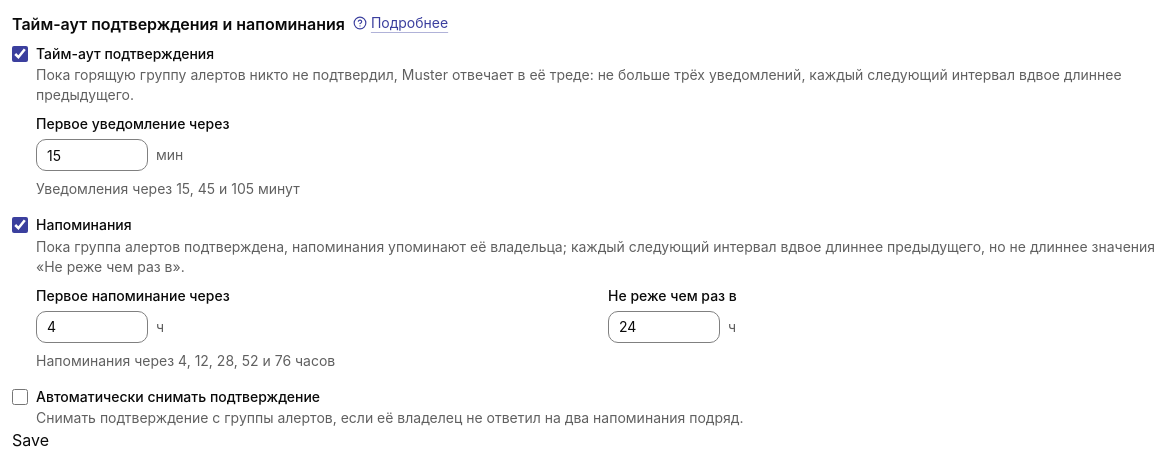
Test: RoutePolicyTimers › speaks Russian, with its plurals
expect the text with test id "ack-timeout-times" reads "Уведомления через 15, 45 и 105 минут": met, box [36, 180, 300, 197]
expect the text with test id "reminder-times" reads "Напоминания через 4, 12, 28, 52 и 76 часов": met, box [36, 352, 335, 368]
Replace the text in the number field labelled "Первое уведомление через" with "3": (92, 155) [36, 139, 148, 171]
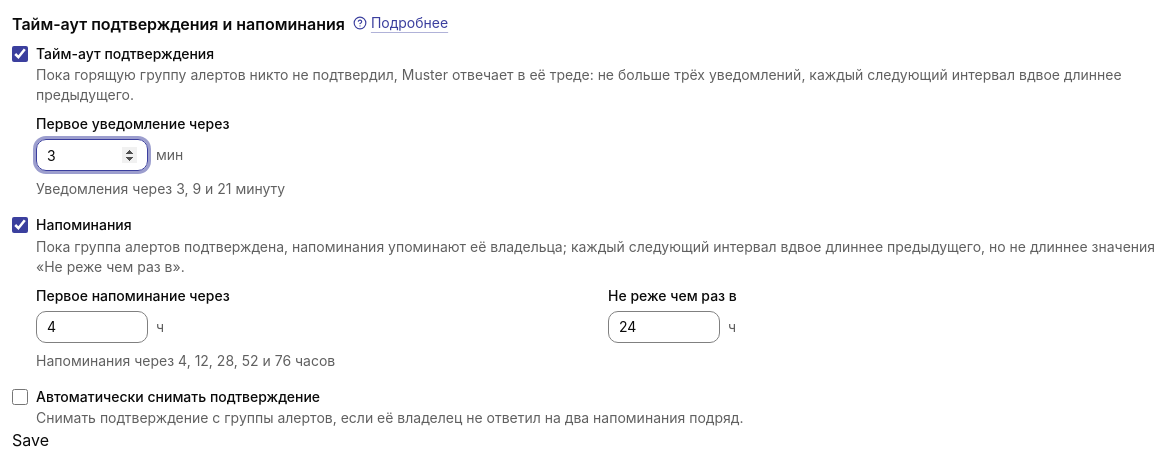
expect the text with test id "ack-timeout-times" reads "Уведомления через 3, 9 и 21 минуту": met, box [36, 180, 285, 197]
Replace the text in the number field labelled "Первое уведомление через" with "0.5": (92, 155) [36, 139, 148, 171]
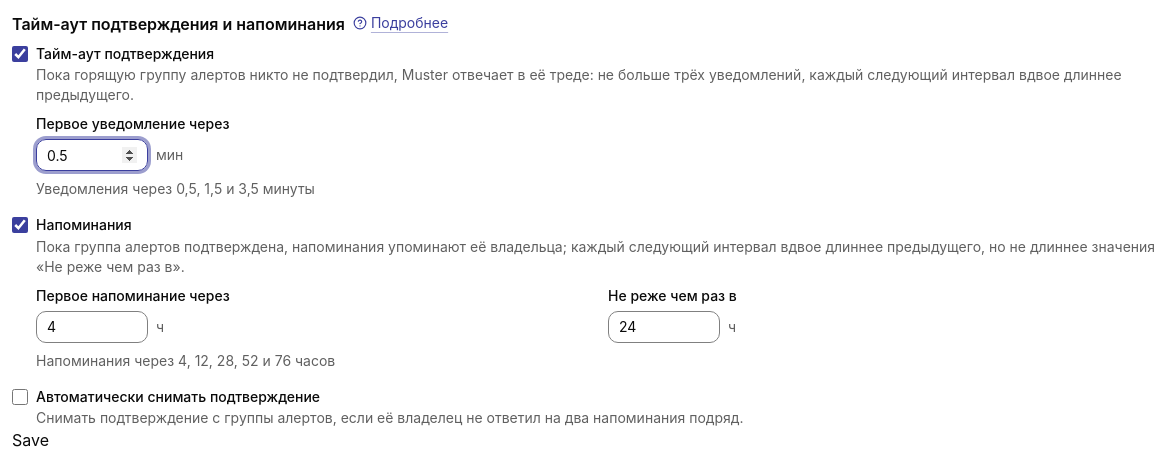
expect the text with test id "ack-timeout-times" reads "Уведомления через 0,5, 1,5 и 3,5 минуты": met, box [36, 180, 315, 197]
Replace the text in the number field labelled "Первое напоминание через" with "1": (92, 326) [36, 310, 148, 342]
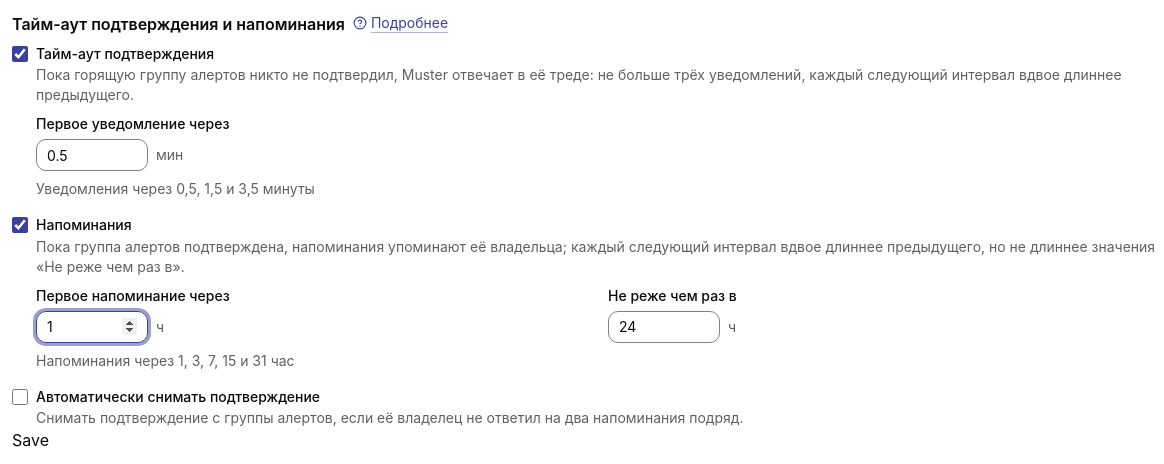
Replace the text in the number field labelled "Не реже чем раз в" with "1": (664, 326) [608, 310, 720, 342]
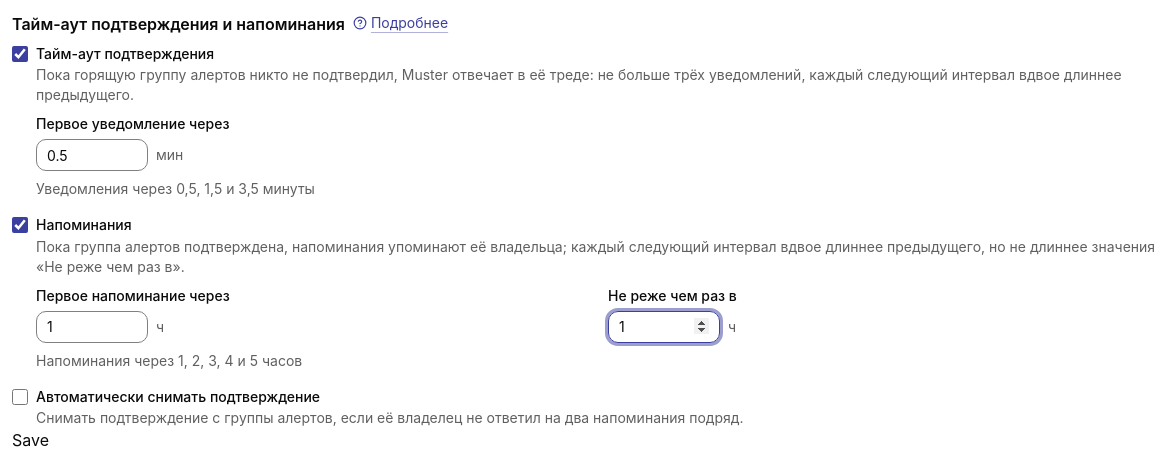
expect the text with test id "reminder-times" reads "Напоминания через 1, 2, 3, 4 и 5 часов": met, box [36, 352, 302, 368]
Replace the text in the number field labelled "Не реже чем раз в" with "8": (664, 326) [608, 310, 720, 342]
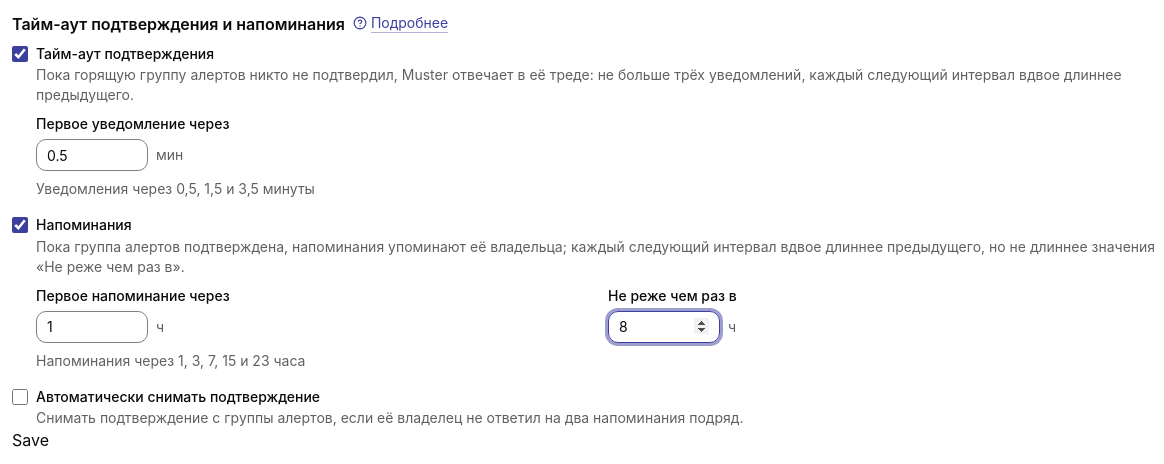
expect the text with test id "reminder-times" reads "Напоминания через 1, 3, 7, 15 и 23 часа": met, box [36, 352, 305, 368]
